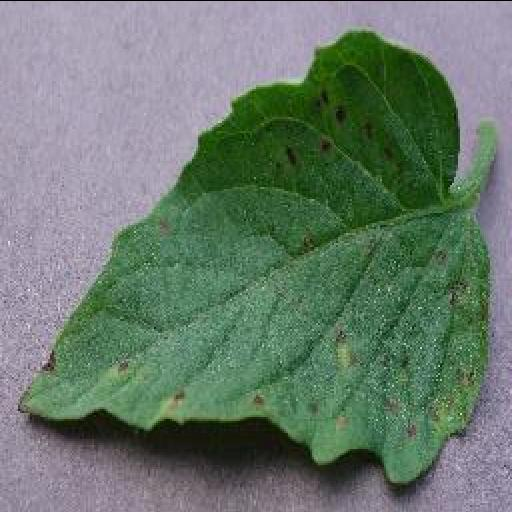disease_tomato: (16, 30, 494, 484)
